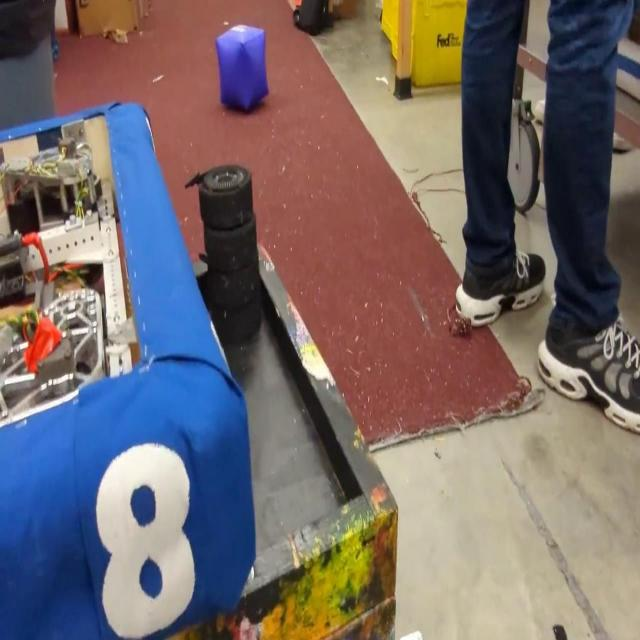frc_cube: (215, 22, 268, 115)
